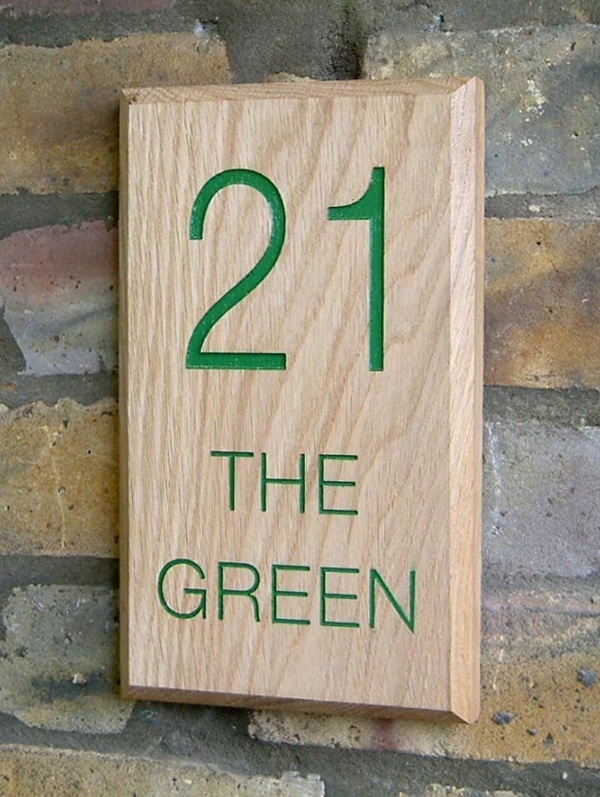text: (193, 163, 208, 373), (209, 163, 224, 373), (225, 163, 240, 373), (241, 163, 256, 373), (257, 163, 272, 373), (273, 163, 288, 373), (289, 163, 304, 373), (305, 163, 320, 373), (321, 163, 336, 373), (337, 163, 352, 373), (353, 163, 368, 373), (369, 163, 384, 373), (401, 556, 417, 635), (161, 556, 176, 635), (177, 556, 192, 635), (193, 556, 208, 635), (209, 556, 224, 635), (225, 556, 240, 635), (241, 556, 256, 635), (257, 556, 272, 635), (273, 556, 288, 635), (289, 556, 304, 635), (305, 556, 320, 635), (321, 556, 336, 635), (337, 556, 352, 635), (353, 556, 368, 635), (369, 556, 384, 635), (385, 556, 400, 635), (209, 448, 224, 518), (225, 448, 240, 518), (241, 448, 256, 518), (257, 448, 272, 518), (273, 448, 288, 518), (289, 448, 304, 518), (305, 448, 320, 518), (321, 448, 336, 518), (337, 448, 352, 518), (385, 163, 388, 373), (353, 448, 361, 518), (157, 556, 160, 635), (191, 163, 192, 373)
